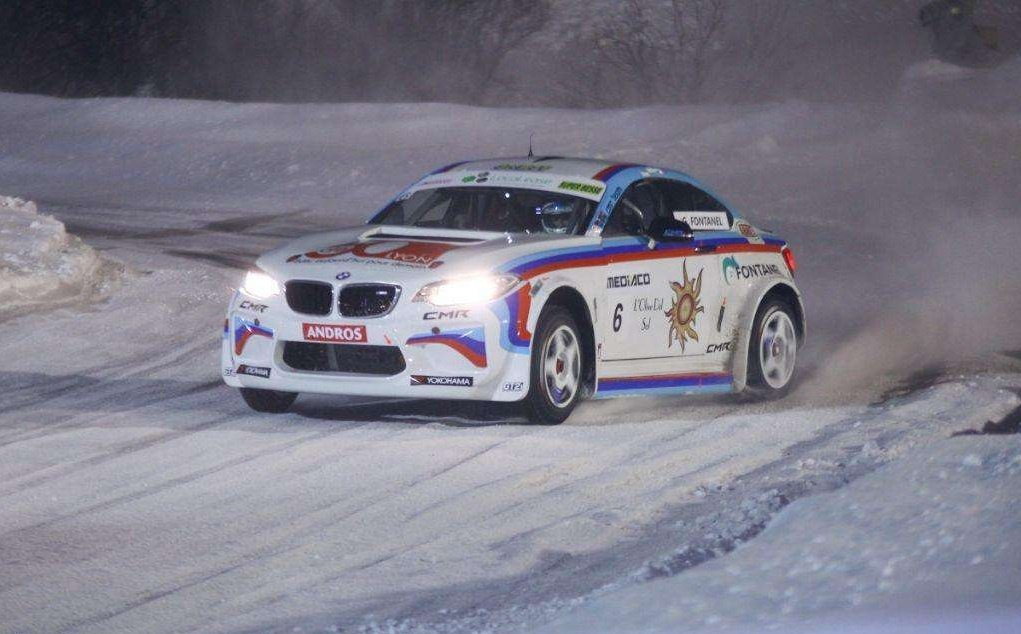racing car: (208, 131, 824, 428)
